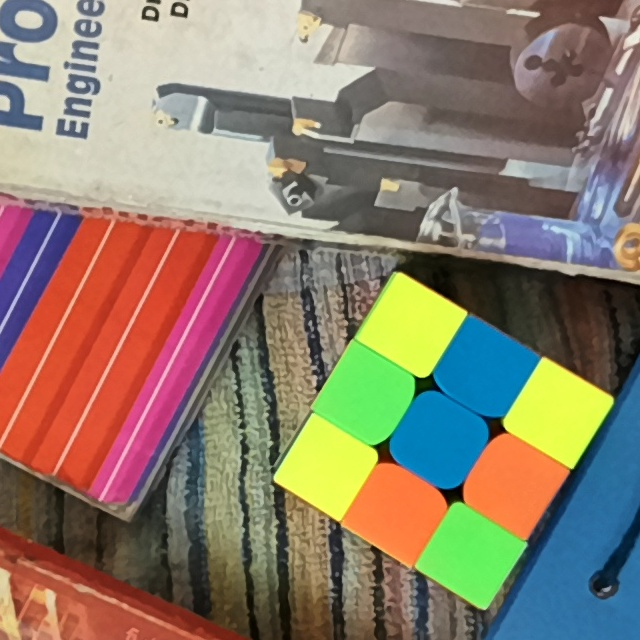tile: (338, 366, 399, 423), (367, 486, 427, 542), (484, 453, 541, 511), (457, 342, 513, 401), (409, 413, 469, 468), (441, 527, 497, 583), (300, 439, 355, 494), (530, 387, 588, 439), (384, 300, 439, 352)
